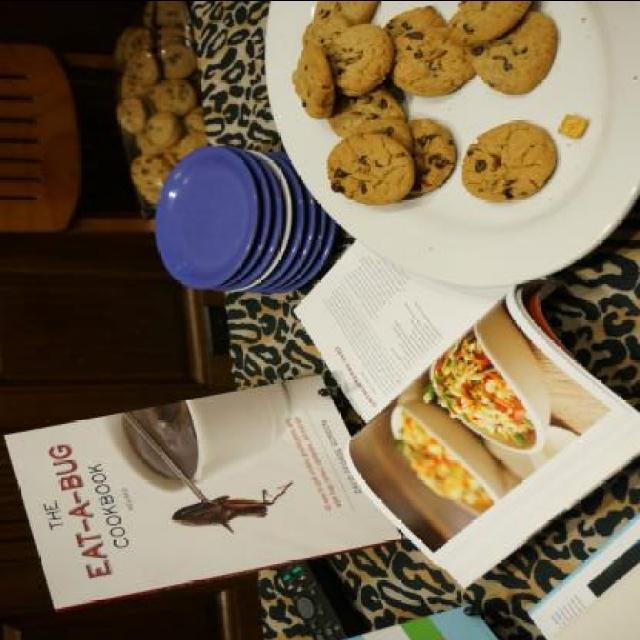Cookie: (285, 1, 563, 205), (111, 1, 209, 204), (459, 120, 556, 204), (557, 114, 589, 138)
